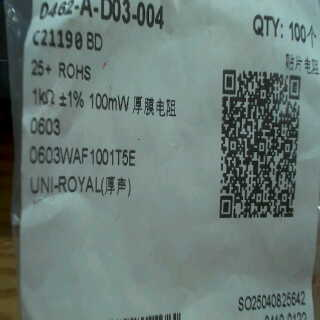1kR: (28, 84, 56, 110)
